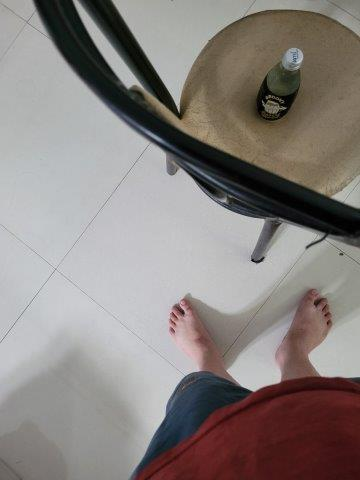botolkaca: (256, 48, 302, 123)
